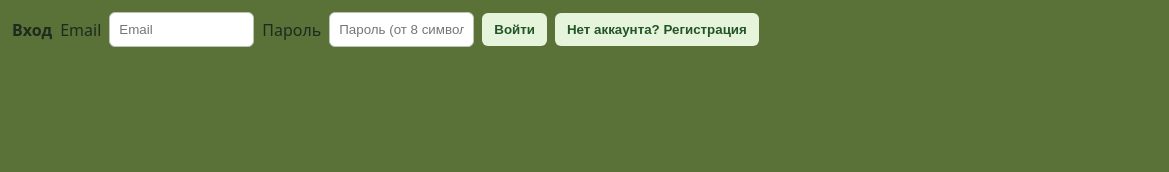
Test: Форма входа — MSW › не отправляет невалидный ввод (farmer@example.test)
Type "farmer@example.test" into the field labelled "Email".
click(182, 30); type("farmer@example.test")  # box left=109, top=12, right=254, bottom=47
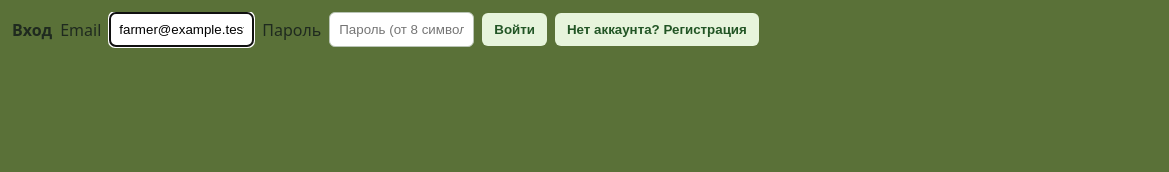
Type "short" into the password field labelled "Пароль".
click(402, 30); type("short")  # box left=329, top=12, right=474, bottom=47
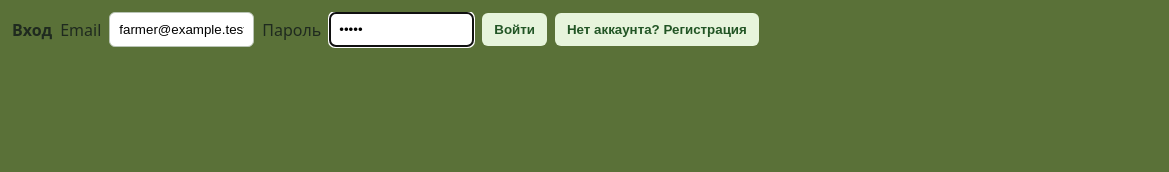
Click the button "Войти".
click(515, 30)  # box left=482, top=13, right=547, bottom=46
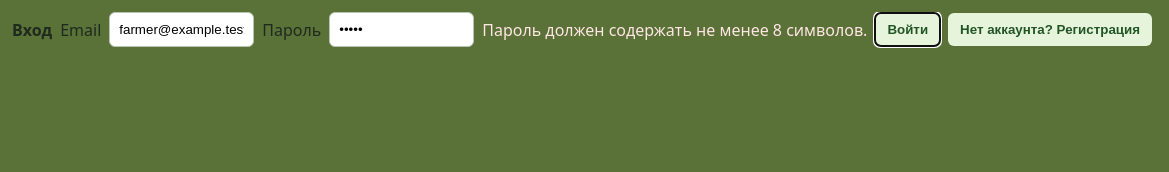
Result: the message shows "не менее 8" at left=482, top=18, right=867, bottom=40
